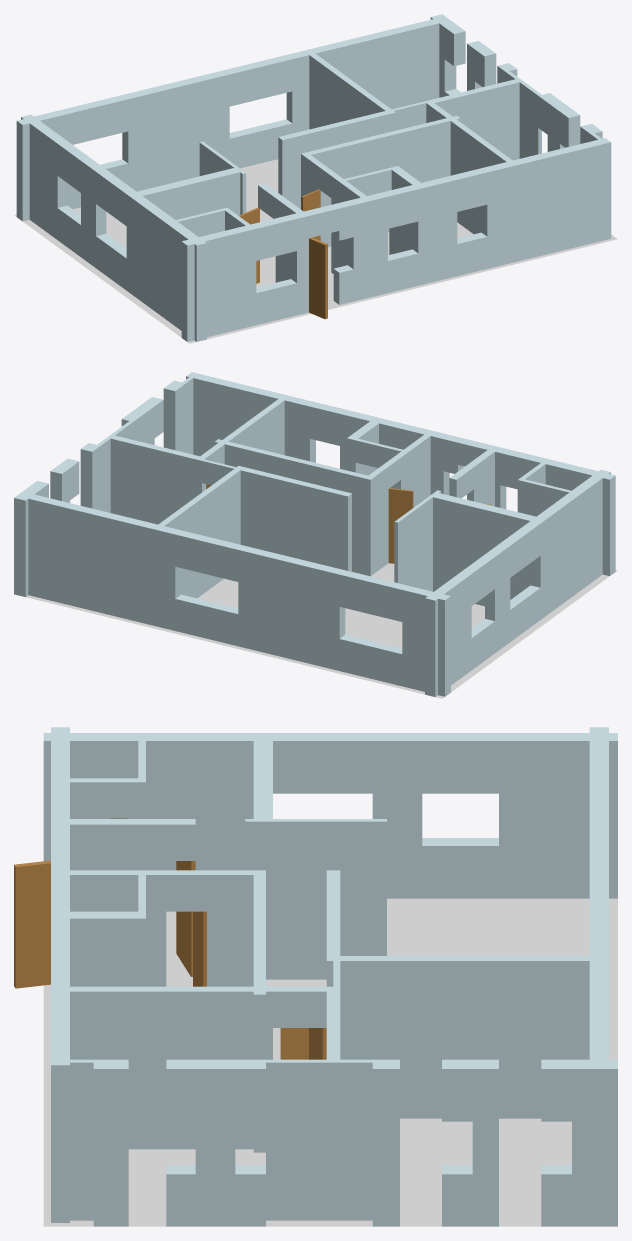
3 views of the same model, one above another, from view 1: azimuth 30°, elevation 25°; view 2: azimuth 150°, elevation 25°; view 3: azimuth 270°, elevation 25° (orthographic). The views are drawn at different scales.
Parts seen in each view (by area): view 1: Wall_4, Wall_1, Wall_0, Wall_32, Wall_9, Wall_13, Floor, Window_37, Wall_16, Wall_27, Wall_8, Wall_25 (+32 smaller); view 2: Wall_0, Wall_1, Wall_30, Wall_32, Wall_27, Wall_8, Wall_4, Floor, Wall_13, Window_37, Window_19, Wall_41 (+31 smaller); view 3: Floor, Wall_41, Wall_22, Wall_24, Wall_33, Wall_32, Window_11, Wall_52, Wall_44, Window_3, Wall_17, Wall_38 (+37 smaller).
Boxes of the visible parts, x1=… form: Wall_4: x1=481, y1=138, x2=611, y2=268; Wall_1: x1=122, y1=70, x2=229, y2=191; Wall_0: x1=286, y1=17, x2=445, y2=133; Wall_32: x1=126, y1=193, x2=206, y2=341; Wall_9: x1=181, y1=224, x2=256, y2=341; Wall_13: x1=301, y1=115, x2=460, y2=246; Floor: x1=14, y1=159, x2=617, y2=343; Window_37: x1=224, y1=55, x2=292, y2=168; Wall_16: x1=412, y1=175, x2=457, y2=285; Wall_27: x1=424, y1=78, x2=522, y2=160; Wall_8: x1=126, y1=167, x2=243, y2=291; Wall_25: x1=347, y1=192, x2=387, y2=301; Wall_0: x1=22, y1=492, x2=181, y2=630; Wall_1: x1=238, y1=545, x2=345, y2=670; Wall_30: x1=234, y1=466, x2=351, y2=571; Wall_32: x1=530, y1=469, x2=610, y2=618; Wall_27: x1=107, y1=434, x2=206, y2=524; Wall_8: x1=429, y1=492, x2=546, y2=619; Wall_4: x1=186, y1=372, x2=315, y2=462; Floor: x1=26, y1=563, x2=617, y2=698; Wall_13: x1=214, y1=439, x2=374, y2=576; Window_37: x1=175, y1=530, x2=243, y2=646; Window_19: x1=339, y1=570, x2=407, y2=686; Wall_41: x1=152, y1=469, x2=240, y2=598; Floor: x1=43, y1=898, x2=617, y2=1226; Wall_41: x1=333, y1=956, x2=608, y2=1118; Wall_22: x1=51, y1=986, x2=272, y2=1149; Wall_24: x1=245, y1=819, x2=386, y2=979; Wall_33: x1=499, y1=733, x2=617, y2=898; Wall_32: x1=43, y1=733, x2=272, y2=870; Window_11: x1=422, y1=733, x2=498, y2=898; Wall_52: x1=273, y1=1059, x2=326, y2=1220; Wall_44: x1=372, y1=733, x2=422, y2=898; Window_3: x1=273, y1=733, x2=372, y2=793; Wall_17: x1=93, y1=1059, x2=128, y2=1226; Wall_38: x1=53, y1=911, x2=145, y2=986.
Bounding box in the file's own units: 12.08 × 2.6 × 9.02.
